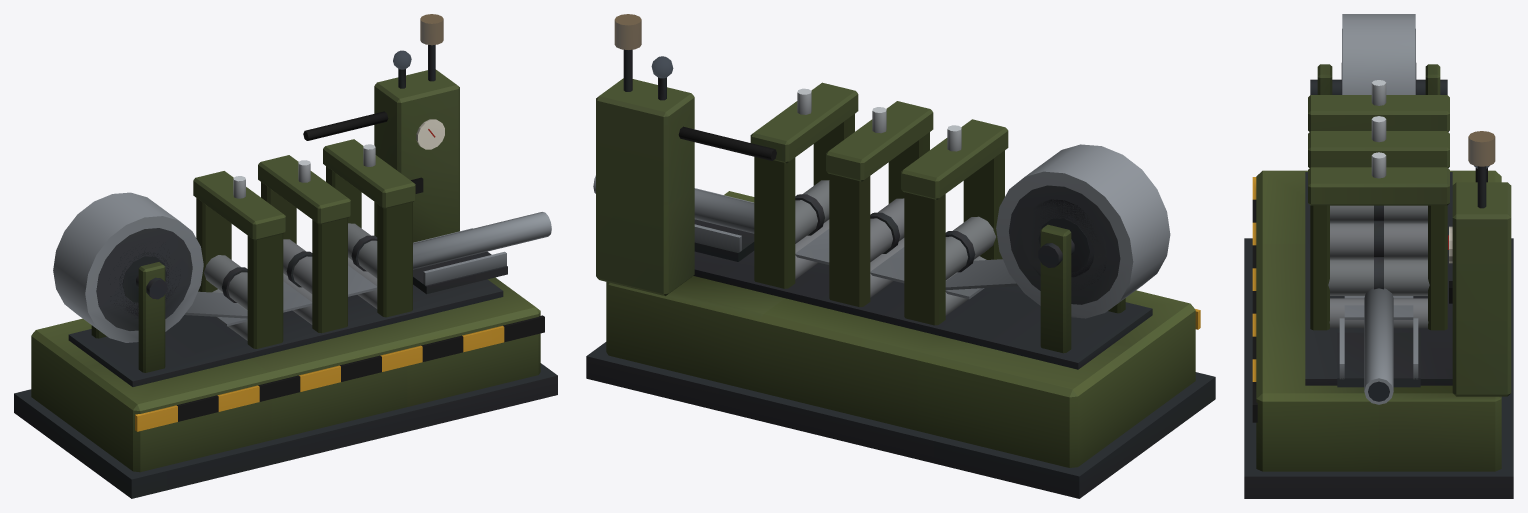
Rendered from pipe_machine.glb.
3 views of the same model, side by side, from view 1: azimuth 30°, elevation 25°; view 2: azimuth 150°, elevation 25°; view 3: azimuth 270°, elevation 25° (orthographic). The views are drawn at different scales.
Parts seen in each view (by area): view 1: pipe_machine_body, coil, pipe_out, roller_1, roller_3, roller_2, beacon; view 2: pipe_machine_body, coil, roller_1, pipe_out, roller_2, roller_3, beacon; view 3: pipe_machine_body, coil, roller_2, roller_3, pipe_out, roller_1, beacon.
Boxes of the visible parts, x1,y1,x2,y2 form: pipe_machine_body: [14, 45, 557, 498]; coil: [53, 192, 203, 342]; pipe_out: [413, 212, 551, 269]; roller_1: [203, 255, 247, 309]; roller_3: [348, 223, 377, 278]; roller_2: [283, 239, 312, 293]; beacon: [420, 14, 443, 45]; pipe_machine_body: [586, 49, 1215, 498]; coil: [996, 144, 1170, 318]; roller_1: [945, 216, 995, 280]; pipe_out: [593, 175, 754, 233]; roller_2: [870, 198, 904, 262]; roller_3: [795, 180, 829, 243]; beacon: [614, 14, 641, 49]; pipe_machine_body: [1244, 64, 1513, 498]; coil: [1341, 14, 1416, 94]; roller_2: [1330, 220, 1427, 259]; roller_3: [1328, 257, 1429, 295]; pipe_out: [1364, 288, 1393, 404]; roller_1: [1330, 205, 1427, 222]; beacon: [1468, 131, 1495, 166].
Bounding box in the file's own units: 2.57 × 1.58 × 1.1.
